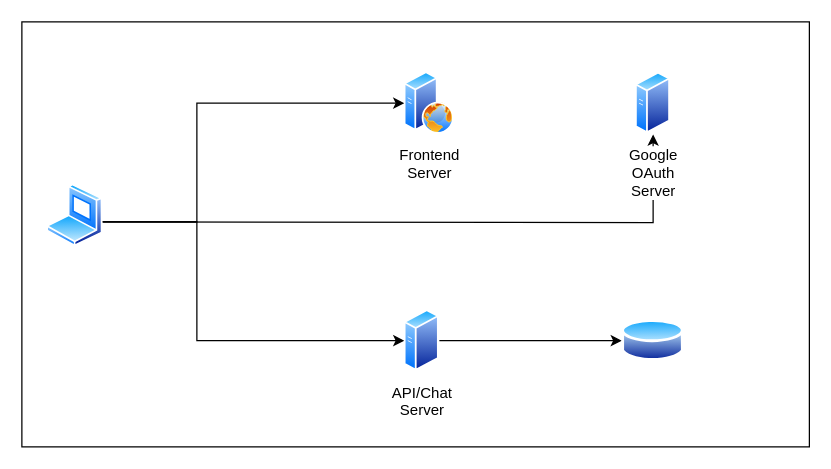
This 831x469 diagram has some shape labels left out. The shapes that lost their labels are listed below. From the top down, each one's centre as x and y in pixels, then its label:
point (74, 215): Client
point (652, 340): Database
